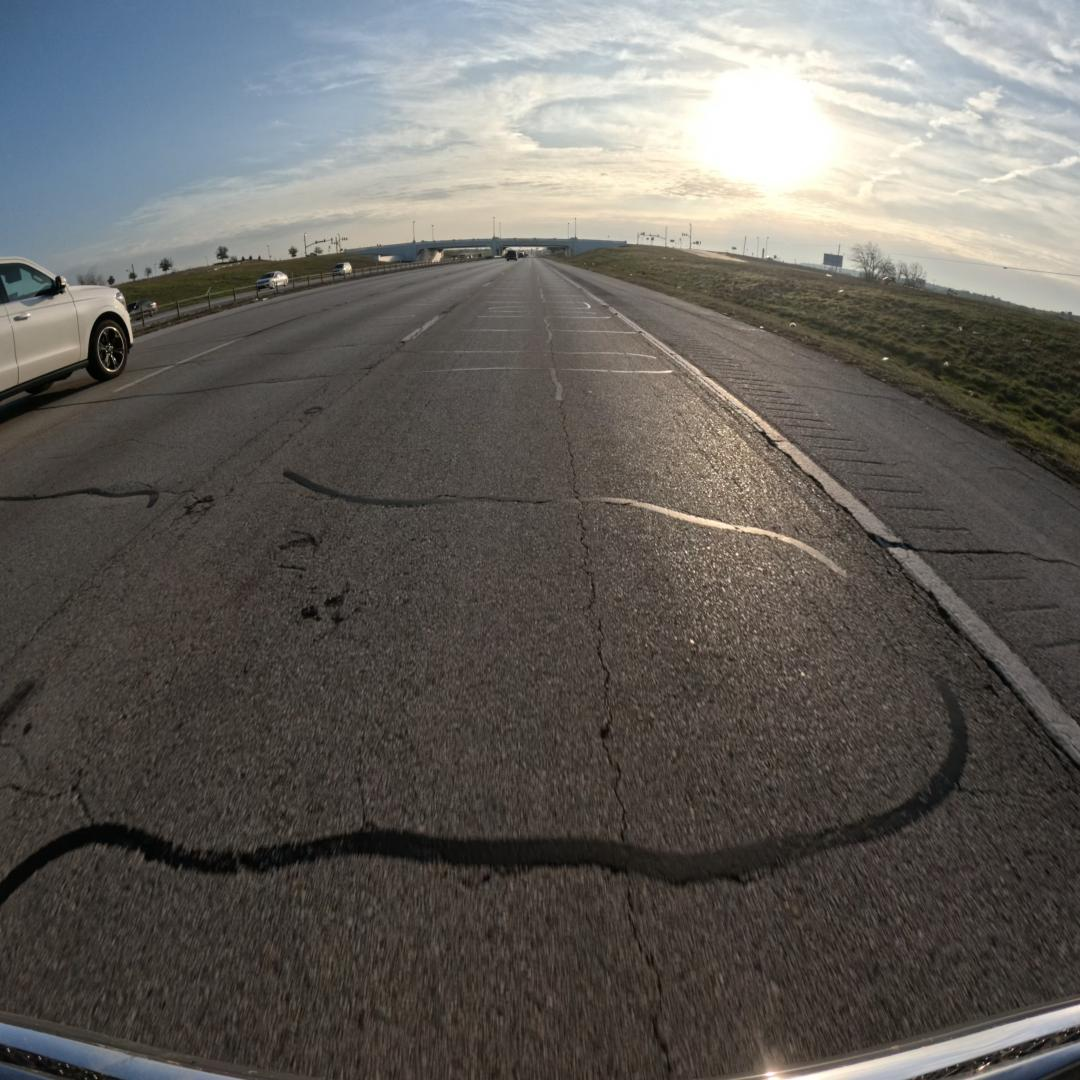lane0: (1, 257, 1080, 1080)
